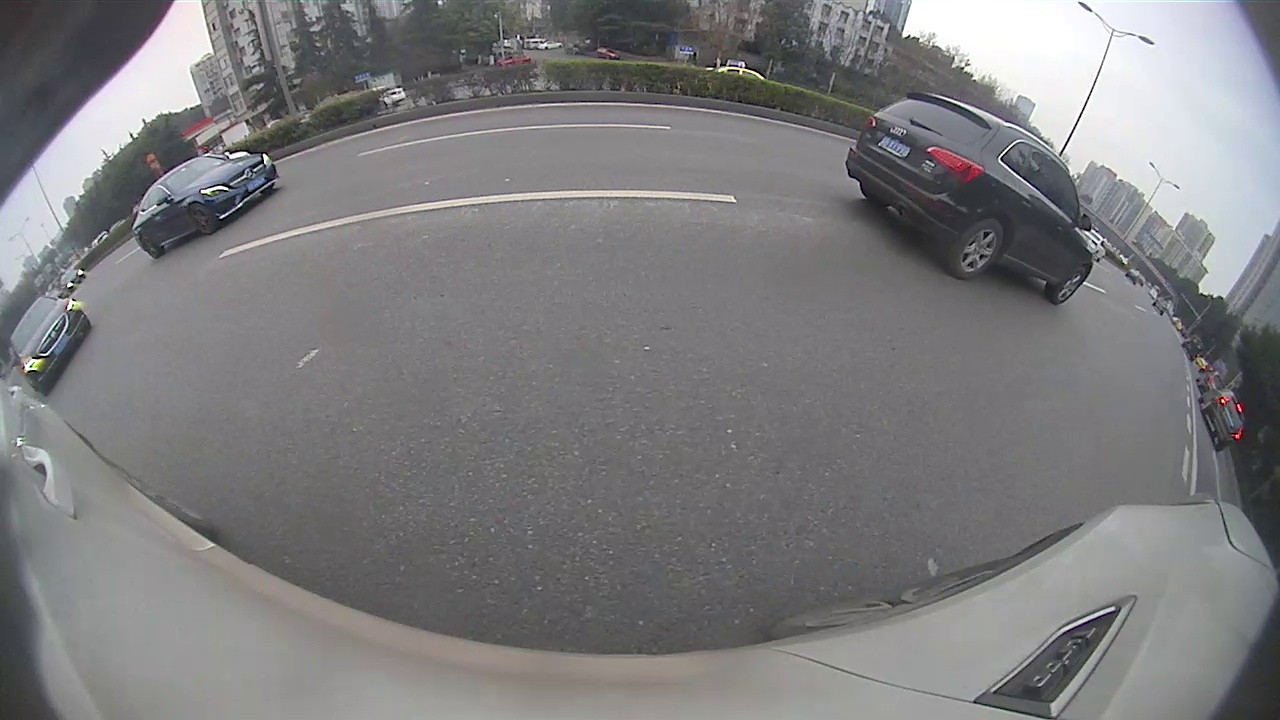car: (847, 91, 1091, 306), (134, 154, 279, 257), (8, 296, 90, 394), (1199, 389, 1245, 450)
front: (1047, 263, 1086, 305), (187, 203, 216, 233)
rear: (945, 216, 1005, 281)
